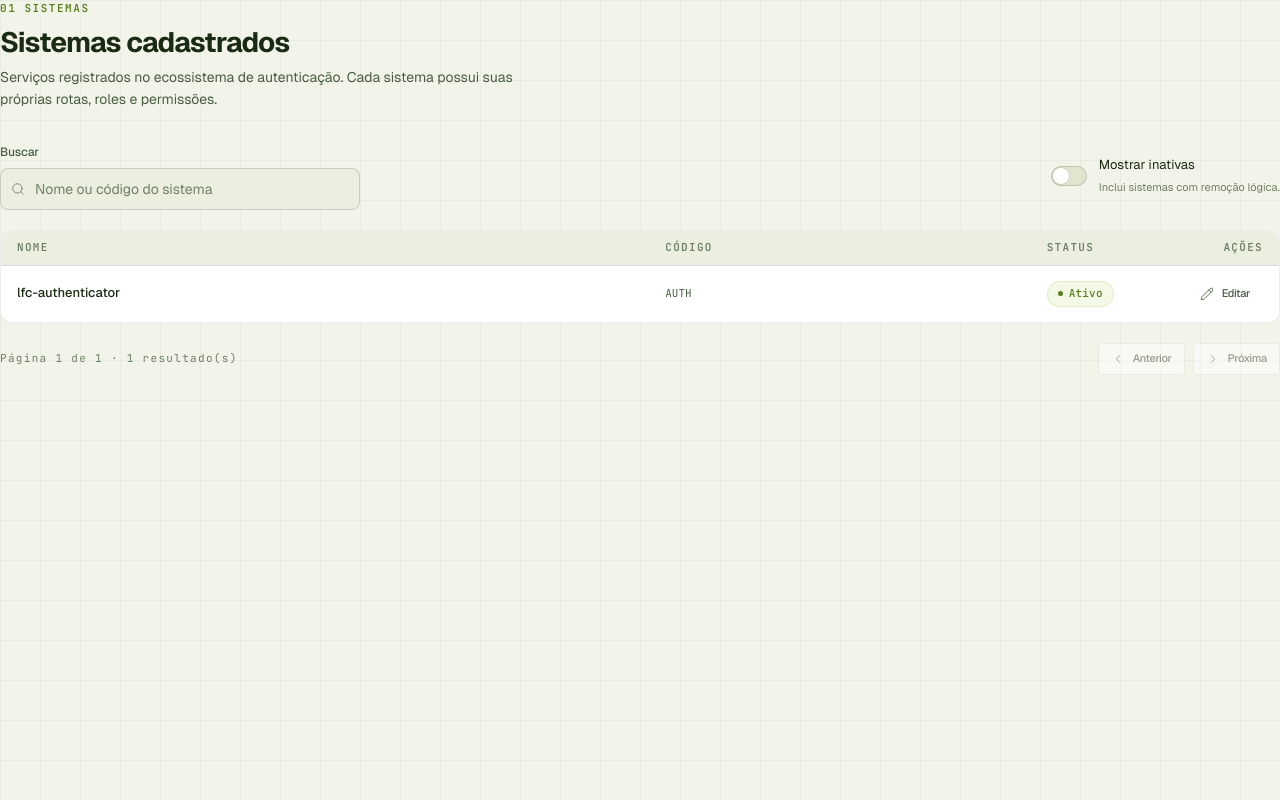
Test: SystemsPage — edição (Issue #59) › abertura e pré-preenchimento do modal › fechar via botão Cancelar não dispara PUT
Click the button "Editar": (1225, 294) [1187,278,1263,310]
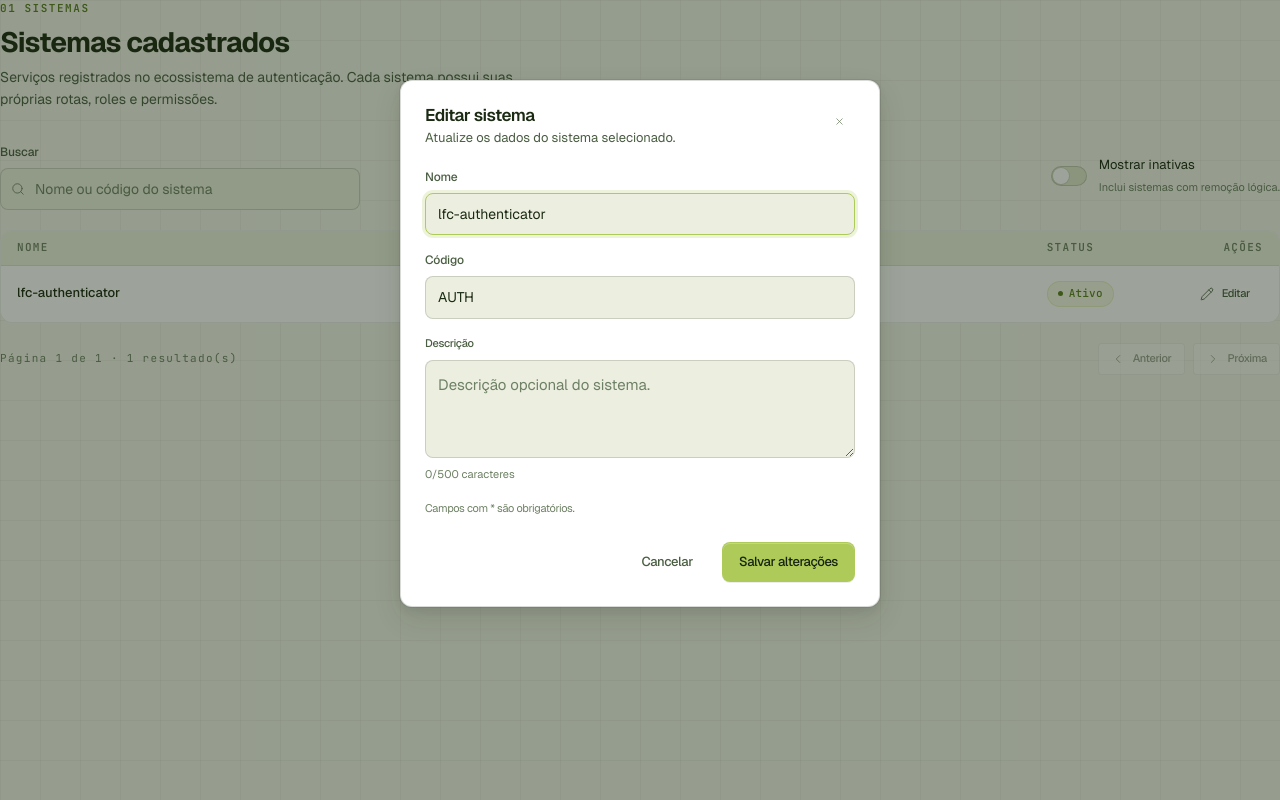
expect the dialog is shown: met, box [400,80,880,606]
Click the button with test id "edit-system-cancel": (667, 562) [624,542,710,582]
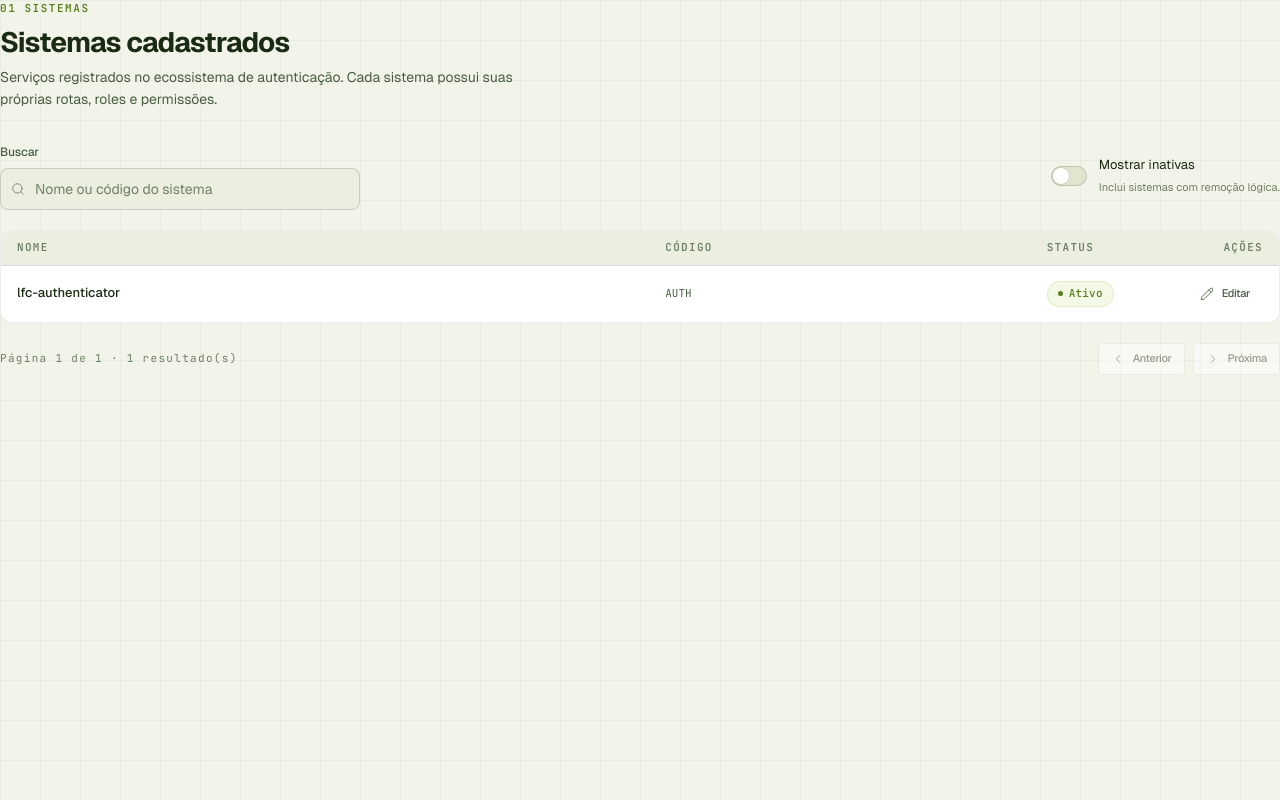
expect the dialog is gone: met
